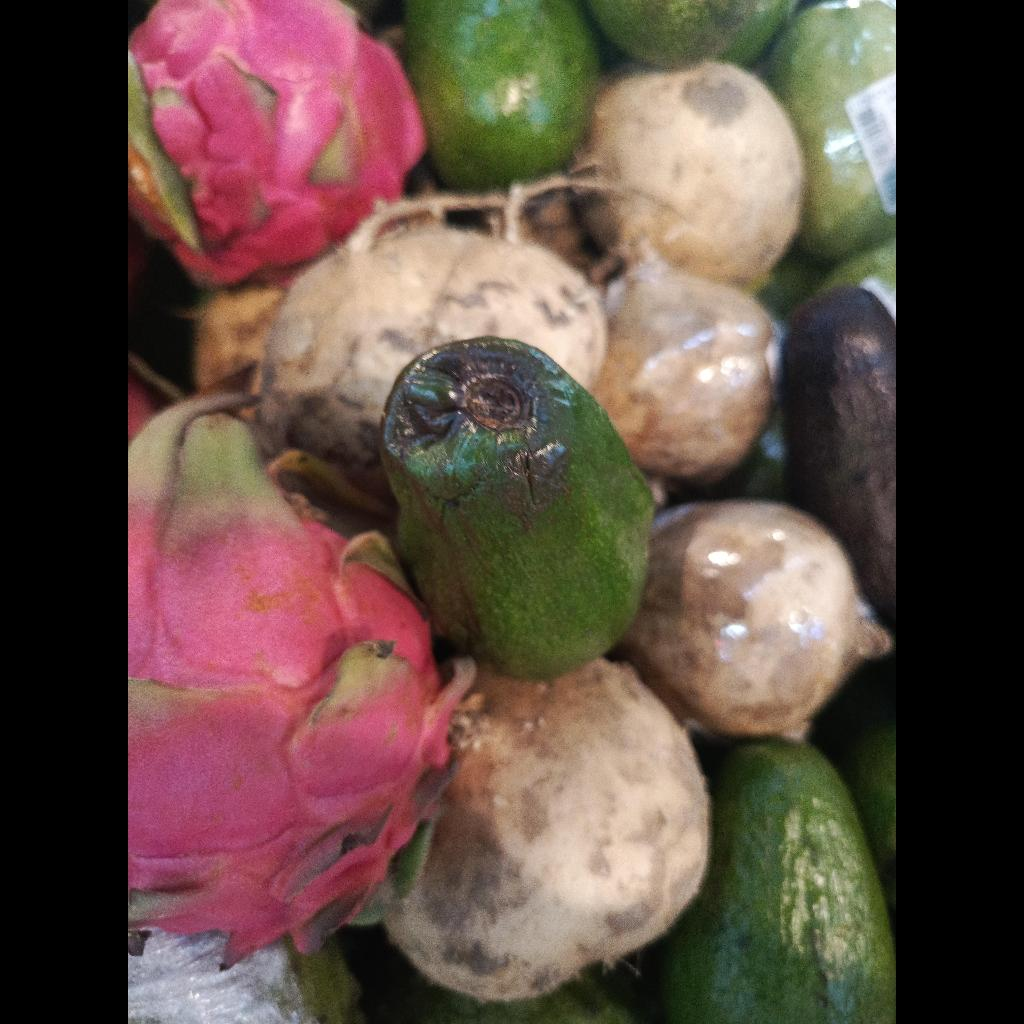pudricion_peduncular: (380, 337, 653, 679)
